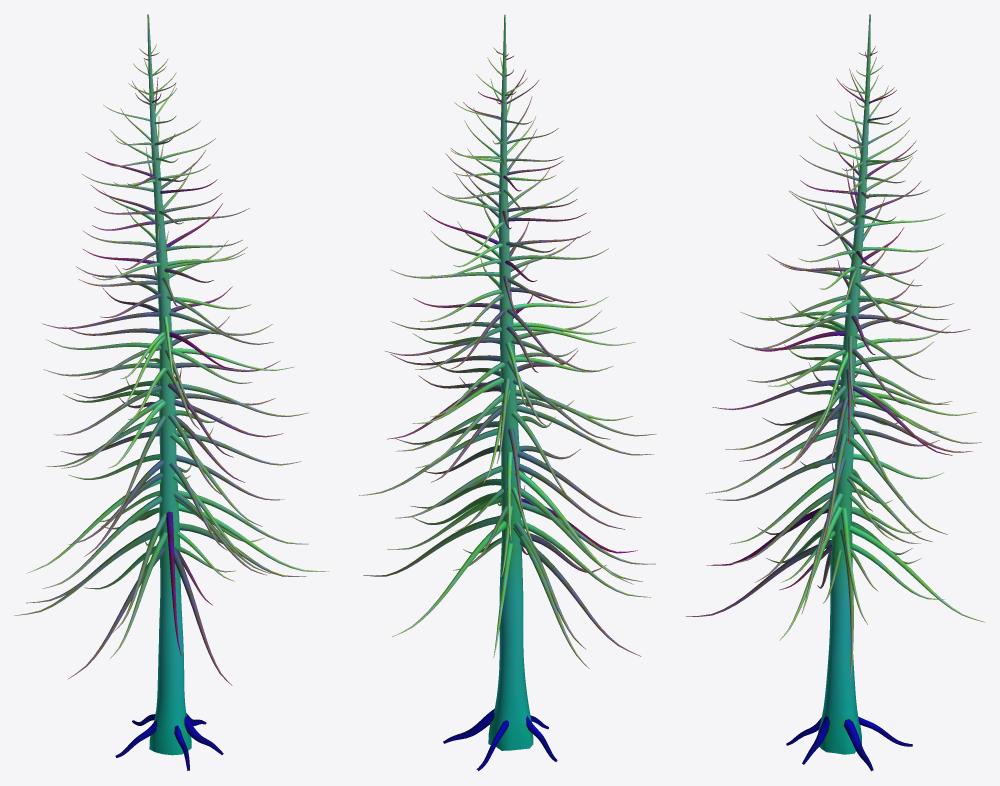
Rendered from spruce-hero.glb.
3 renders of one model, left to right at view 1: azimuth 30°, elevation 25°; view 2: azimuth 150°, elevation 25°; view 3: azimuth 270°, elevation 25°, orthographic. The views are drawn at different scales.
Visible parts, largest first — view 1: bark; view 2: bark; view 3: bark.
Part boxes in pixels (x1,y1,x2,y2): bark: [14, 14, 329, 770]; bark: [359, 14, 656, 771]; bark: [685, 14, 985, 771].
Bounding box in the file's own units: 8.44 × 21.55 × 8.02.
